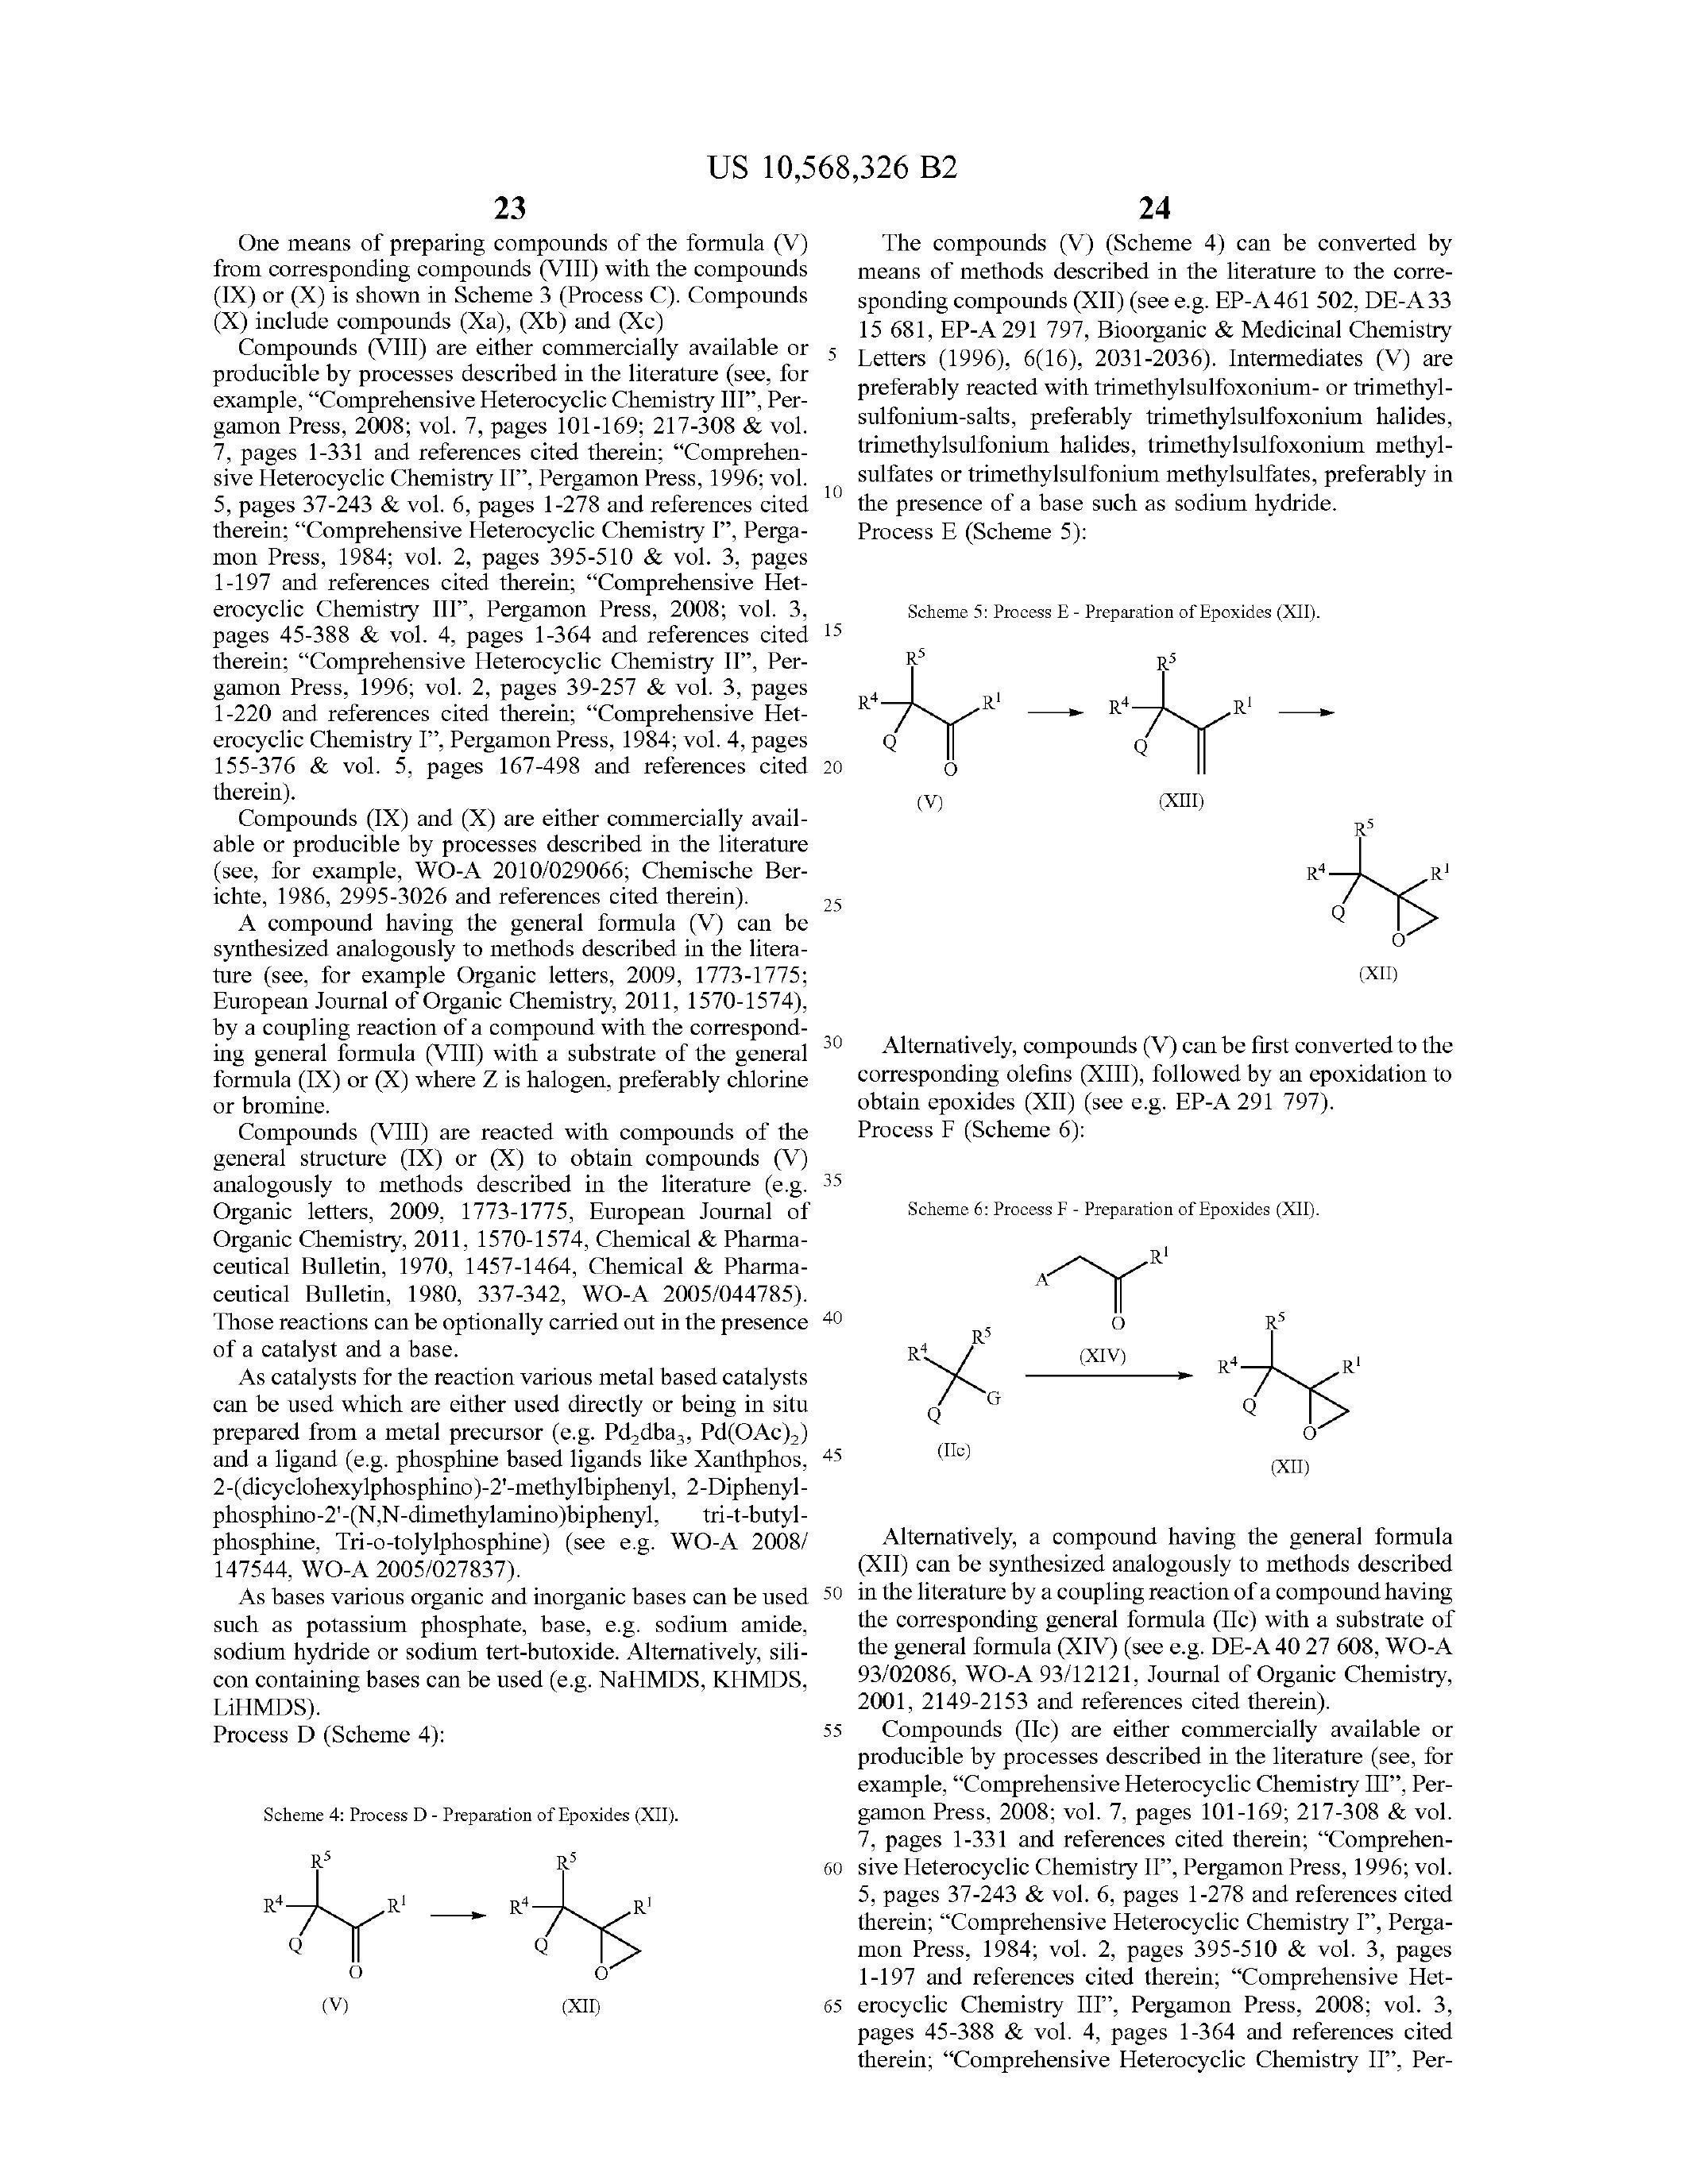reactions: (856, 620, 1468, 984), (238, 1789, 718, 2106), (899, 1232, 1392, 1484)
